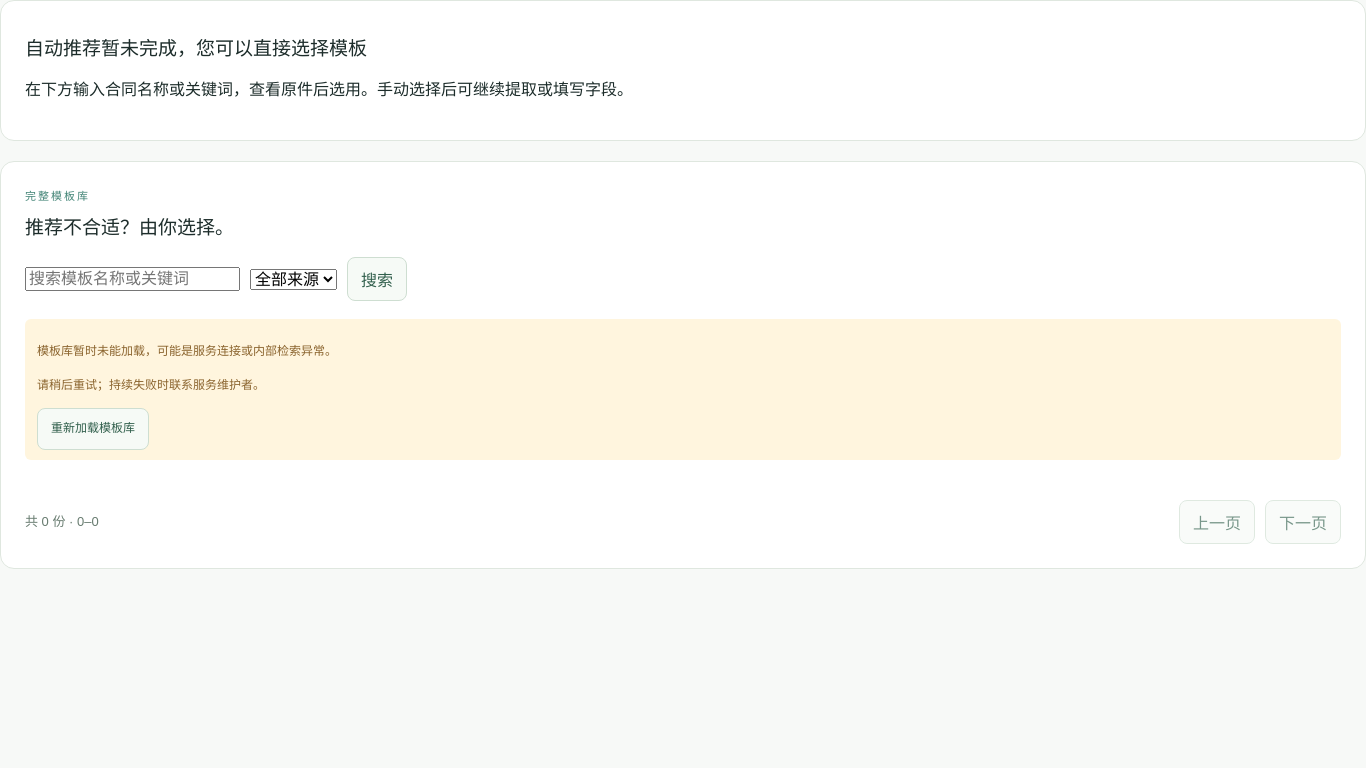
Test: manual template choice › recovers from an internal library failure through an explicit reload
Click the button "重新加载模板库": (93, 429) [37,408,149,450]
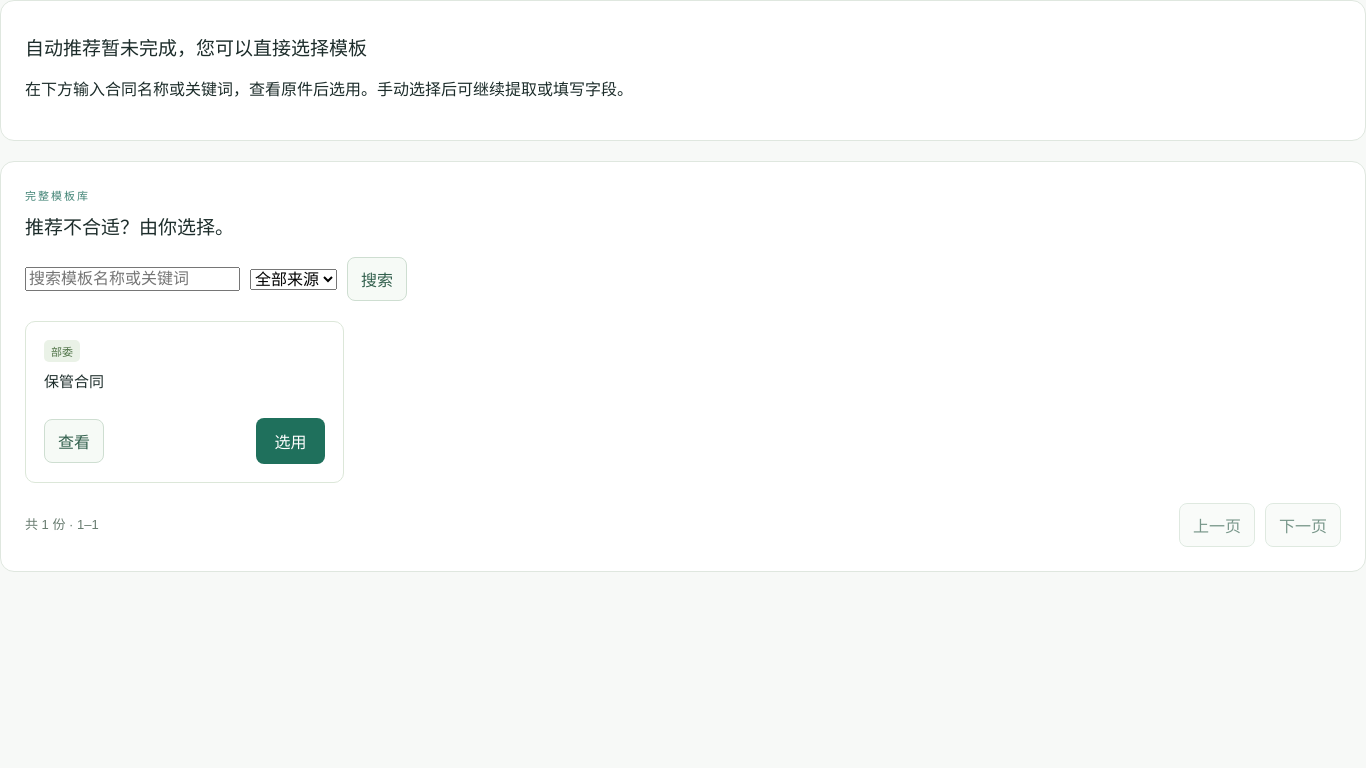
Expected: the text "保管合同" is shown, [44,370,104,394]
